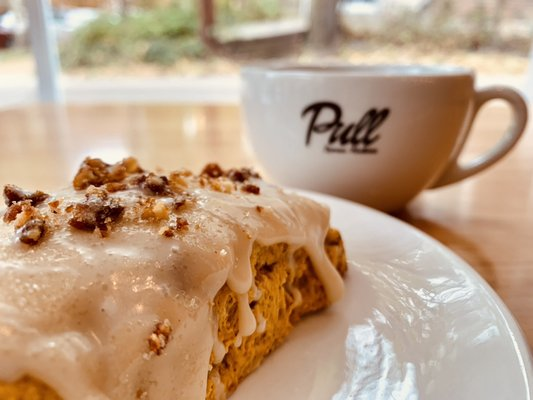pizza: (237, 64, 531, 214)
soup: (1, 156, 348, 400)
